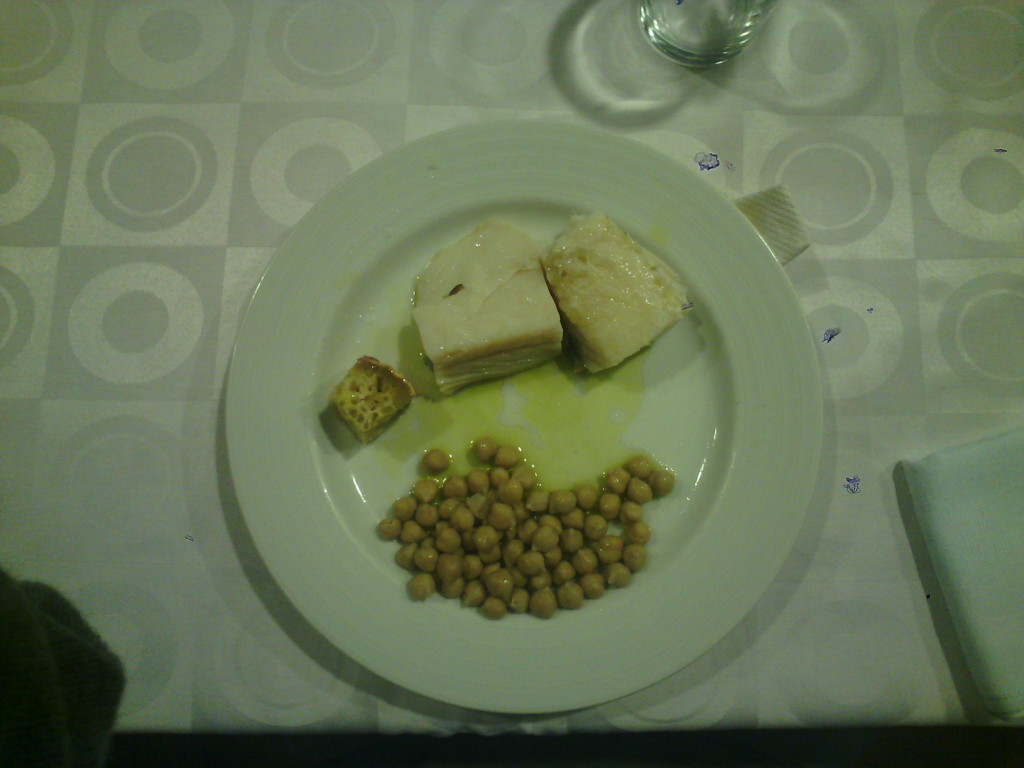61-80: (227, 116, 825, 711)
